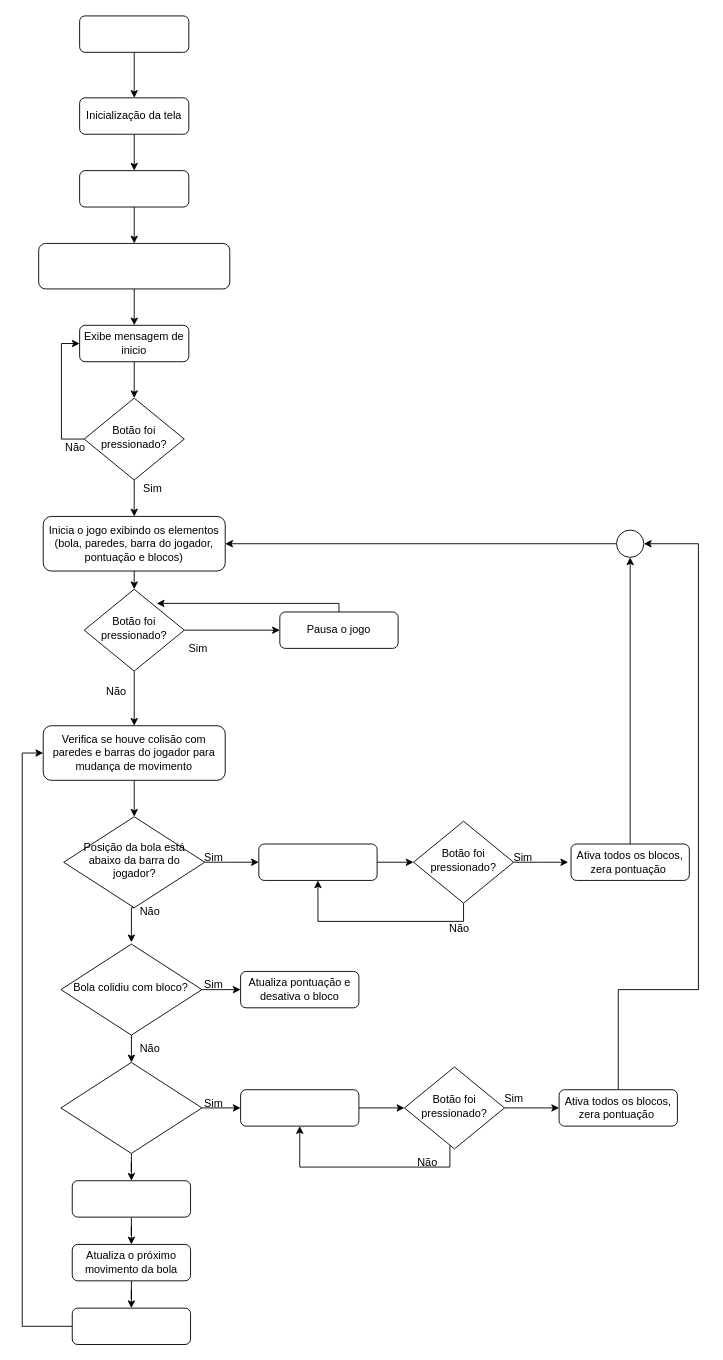
Image size: 723x1360. Some labels were removed from this diagram. Here are the shapes that lost their labels. From the top down, the centre of each, then its label:
point (134, 33): Inicialização do botão
point (134, 188): Inicialização do acelerômetro
point (134, 266): Criação dos objetos do jogo (paredes, bolas, blocos e mensagens)
point (317, 861): Exibe mensagem de Game Over
point (131, 1107): Pontuação é igual ao número de blocos?
point (299, 1107): Exibe mensagem de Vitória
point (131, 1198): Atualiza o próximo movimento do jogador
point (131, 1326): Atualiza a tela
